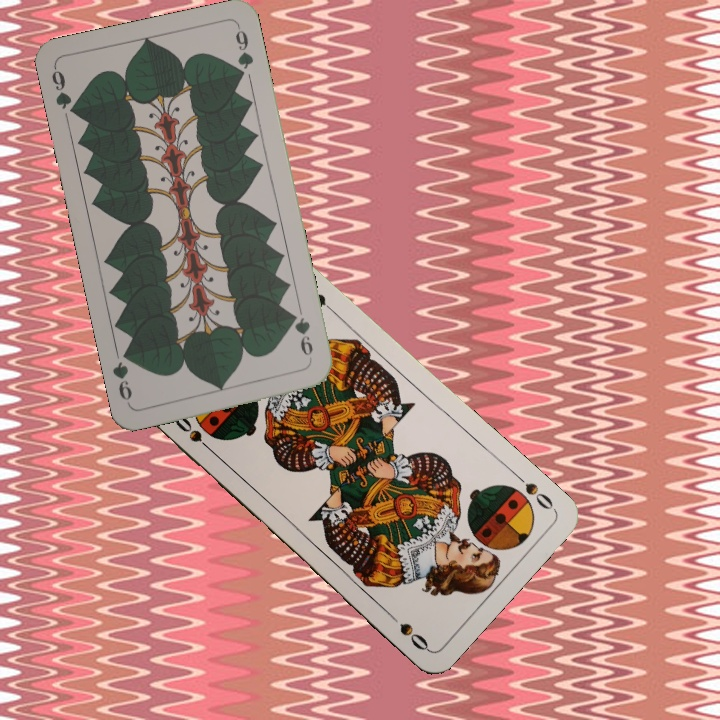G9: (47, 63, 81, 119), (287, 309, 316, 366)
SO: (170, 411, 218, 457), (510, 469, 558, 513)
